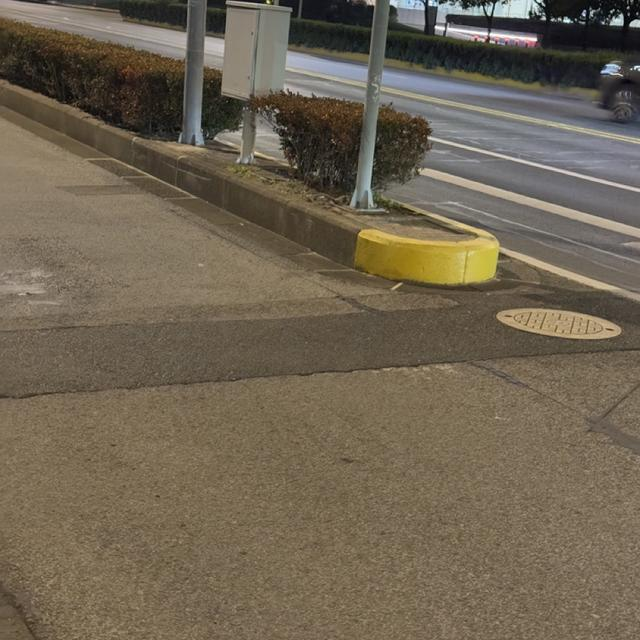curb: (0, 81, 358, 266), (386, 60, 596, 101), (354, 229, 499, 285), (390, 201, 499, 245), (291, 46, 366, 63), (49, 0, 119, 16), (121, 15, 184, 31), (206, 31, 223, 38)
